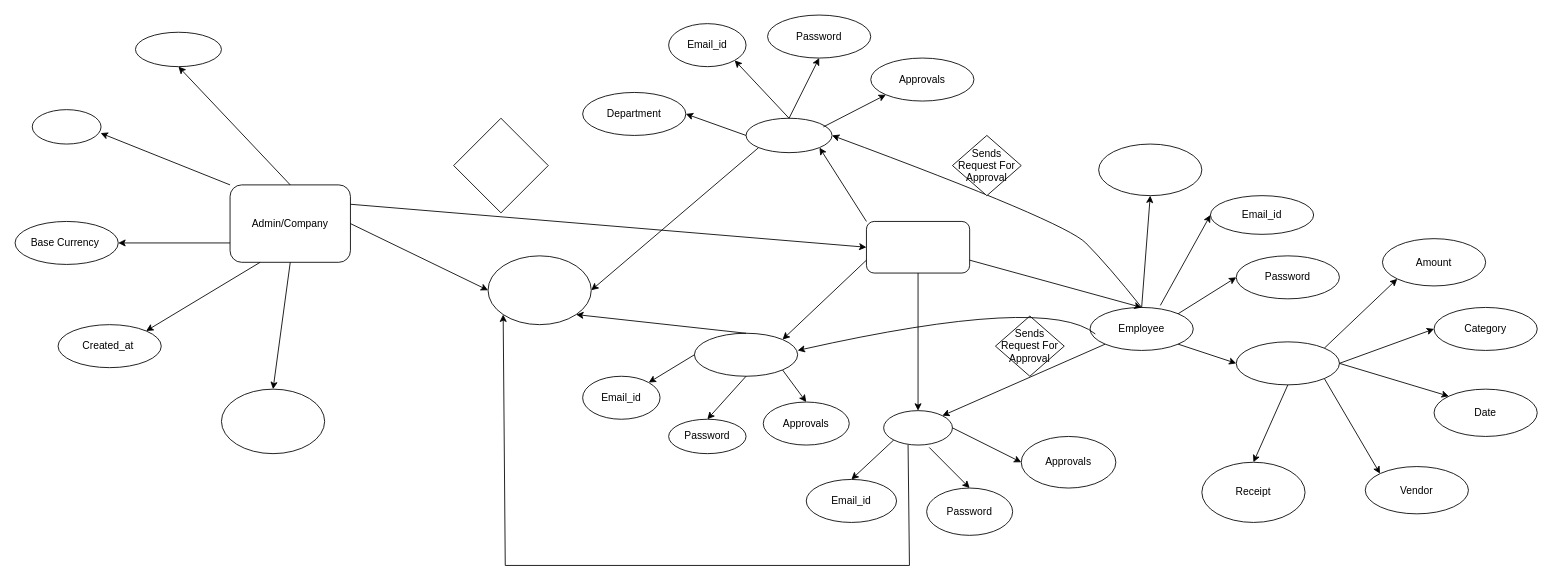
Image size: 1552x587. Some labels were removed from this diagram. The box of each missing label's shape, as (x1, y1, x2, y2) in pixels:
Company Settings: (221, 388, 325, 454)
Country: (31, 109, 101, 144)
Creates Staff Assign Roles: (453, 117, 548, 213)
Director: (694, 332, 798, 376)
Fianance: (883, 410, 952, 445)
Manager: (745, 117, 832, 153)
Name: (135, 31, 221, 67)
Staff: (866, 221, 970, 273)
Status: (1098, 143, 1202, 196)
Submissions: (1235, 341, 1339, 385)
Total Expense: (487, 255, 591, 325)
